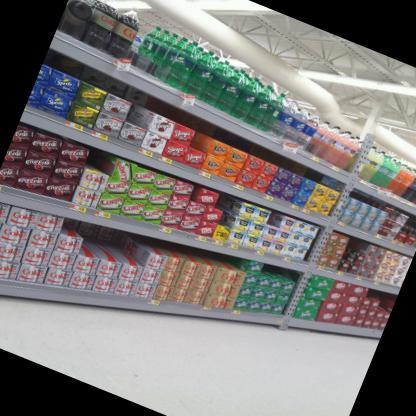empty_space: (129, 35, 167, 84)
